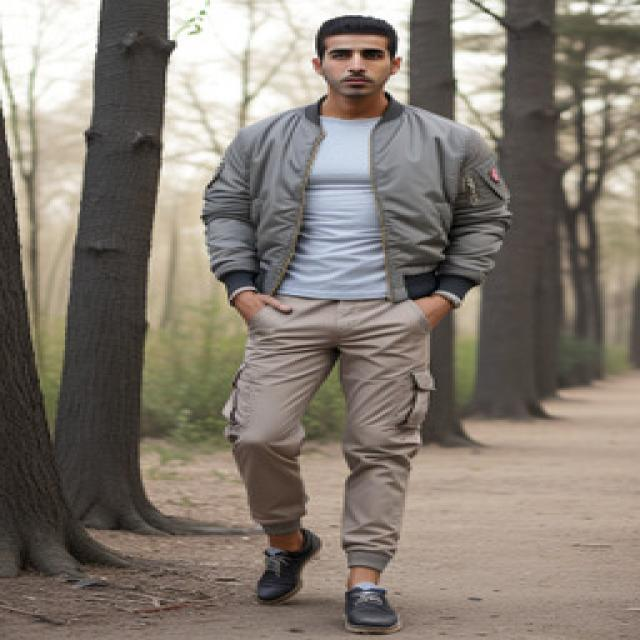Ai human 2: (191, 3, 489, 640)
